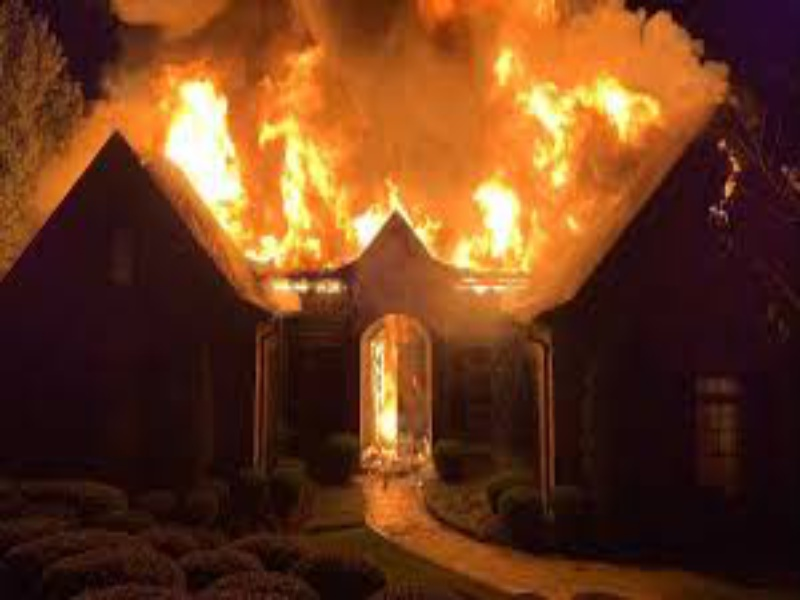fire: (101, 38, 673, 154), (194, 159, 550, 270), (378, 405, 401, 445)
